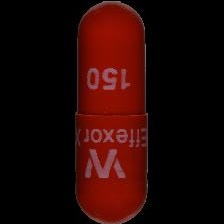54868-4252: (0, 0, 224, 224)
